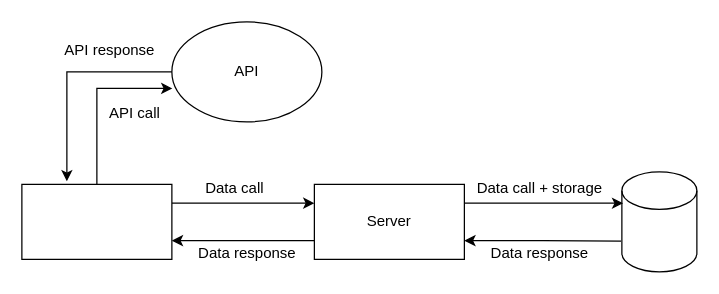
The diagram is 719 pixels wide and 294 high, and some of its shapes have lost their labels. The centre of each missing label's shape, as x and y in pixels:
Client: point (96, 221)
DB: point (659, 221)
